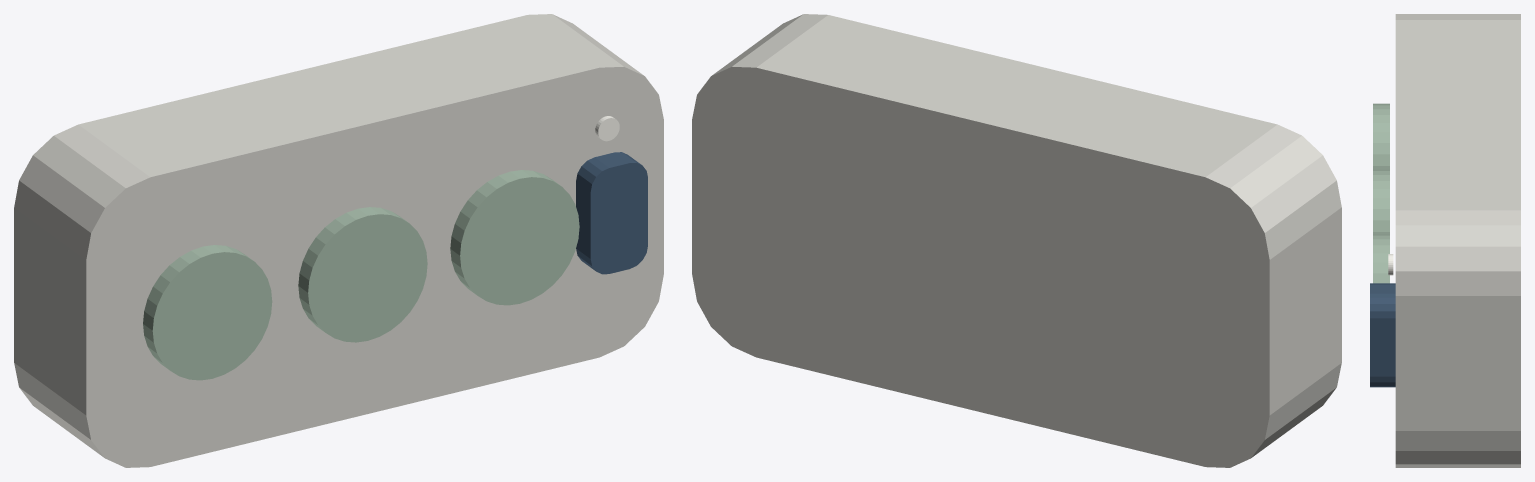
Rendered from powerstrip.glb.
3 views of the same model, side by side, from view 1: azimuth 30°, elevation 25°; view 2: azimuth 150°, elevation 25°; view 3: azimuth 270°, elevation 25° (orthographic). The views are drawn at different scales.
Parts seen in each view (by area): view 1: case, socket-0.52, socket-0.06, socket0.39, switch; view 2: case; view 3: case, switch, socket-0.52, socket-0.06, socket0.39.
Part boxes in pixels (box(x1,y1,x2,y2)): case: box(14, 14, 663, 467); socket-0.52: box(143, 245, 272, 380); socket-0.06: box(298, 207, 427, 342); socket0.39: box(450, 170, 579, 305); switch: box(576, 152, 647, 274); case: box(692, 14, 1341, 467); case: box(1395, 14, 1520, 467); switch: box(1370, 283, 1395, 387); socket-0.52: box(1373, 103, 1389, 169); socket-0.06: box(1373, 169, 1389, 233); socket0.39: box(1373, 234, 1389, 283).
Bounding box in the file's own units: 1.71 × 0.82 × 0.4455.
